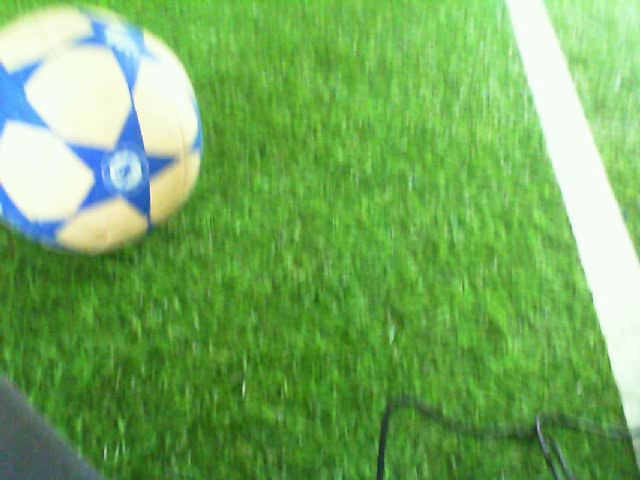ball: (1, 1, 207, 263)
